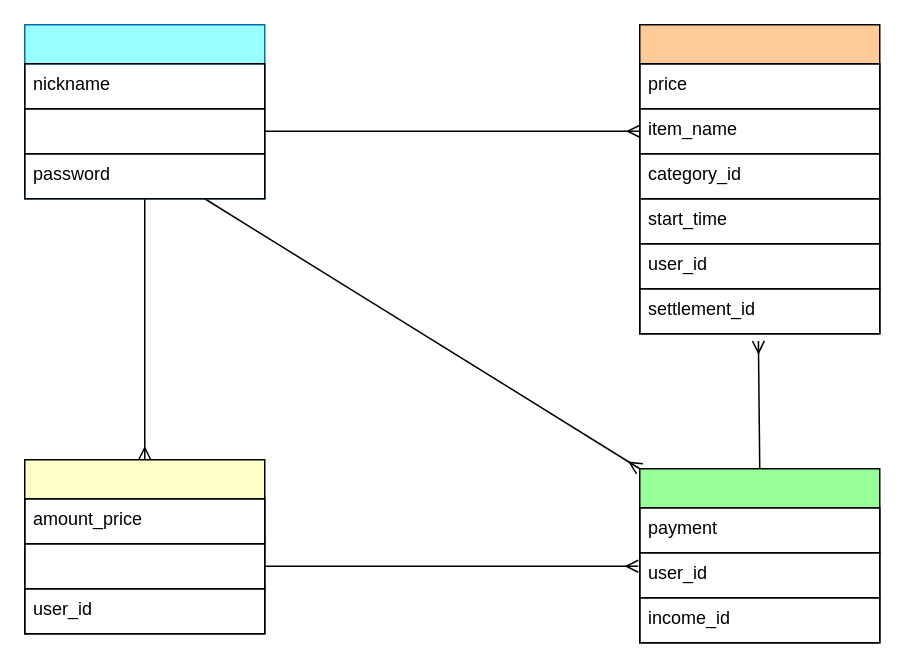
This 905x668 diagram has some shape labels left out. Each missing label, with the box of its shape:
banks: (23, 458, 265, 634)
email: (23, 107, 265, 154)
name: (23, 542, 265, 589)
settlements: (638, 467, 880, 643)
spendings: (638, 23, 880, 334)
users: (23, 23, 265, 199)
